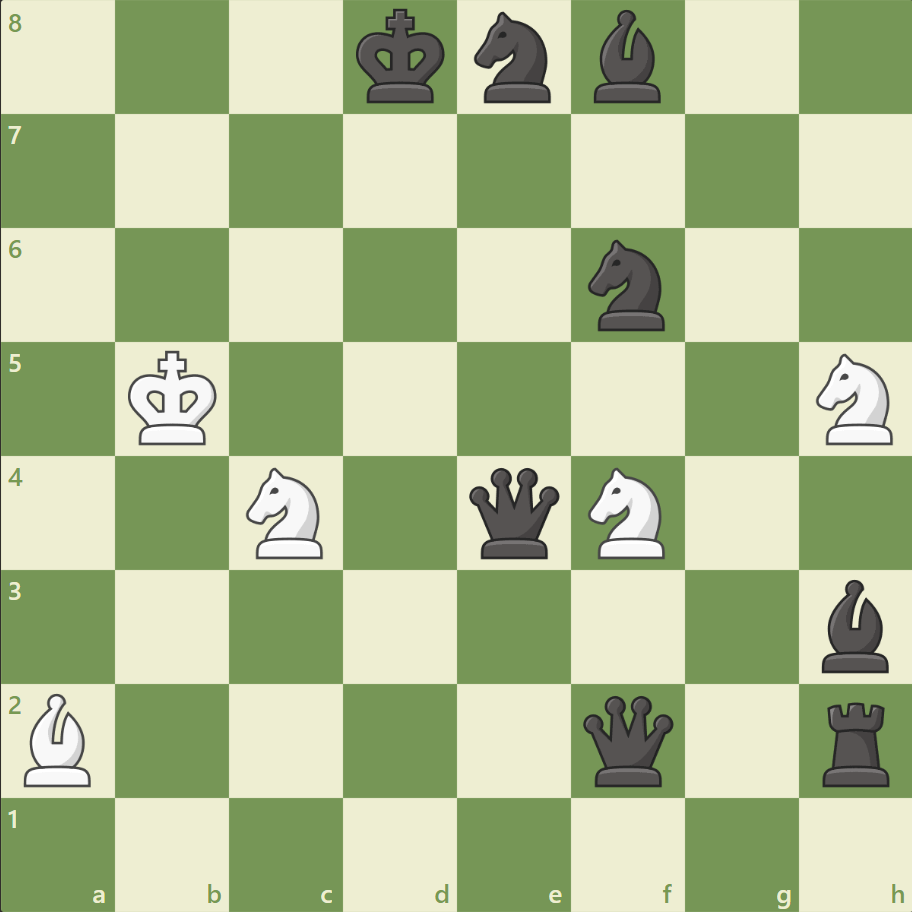B: (17, 687, 101, 790)
K: (124, 344, 224, 452)
N: (238, 461, 335, 564), (579, 461, 676, 564), (806, 348, 903, 450)
b: (585, 6, 669, 109), (812, 574, 896, 676)
k: (351, 4, 451, 112)
n: (465, 7, 562, 110), (579, 234, 676, 337)
q: (464, 463, 563, 562), (578, 690, 677, 789)
r: (814, 693, 897, 790)
